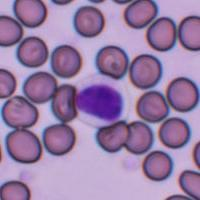L: (74, 76, 128, 125)
